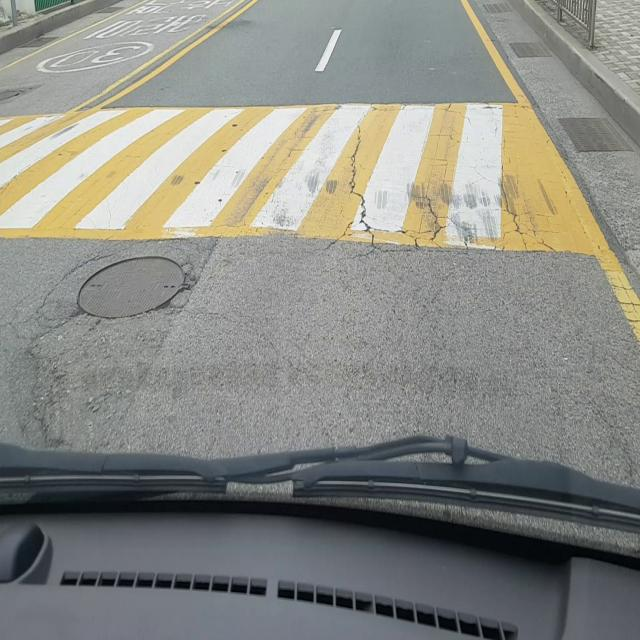Pothole: (69, 252, 198, 321)
